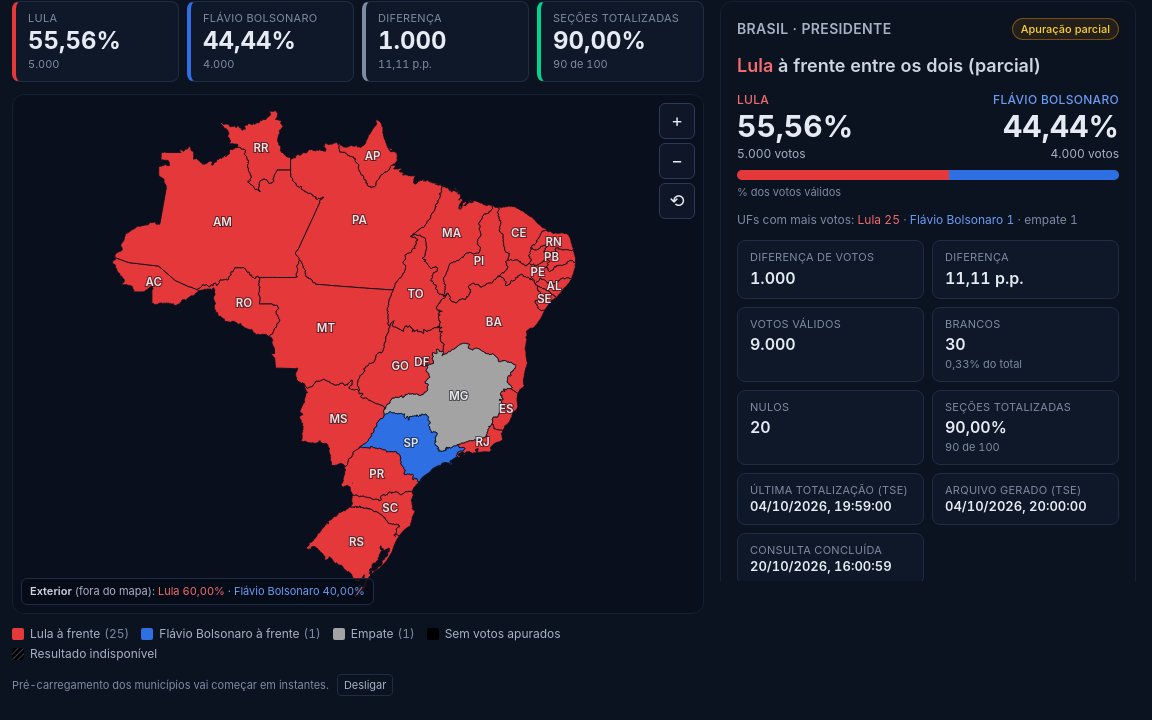
Scenario: Dashboard › desktop (1440 px) › mostra o pré-carregamento dos municípios e permite desligar
(page scrolled)
Click the button "Desligar": (365, 685) [337,674,394,696]
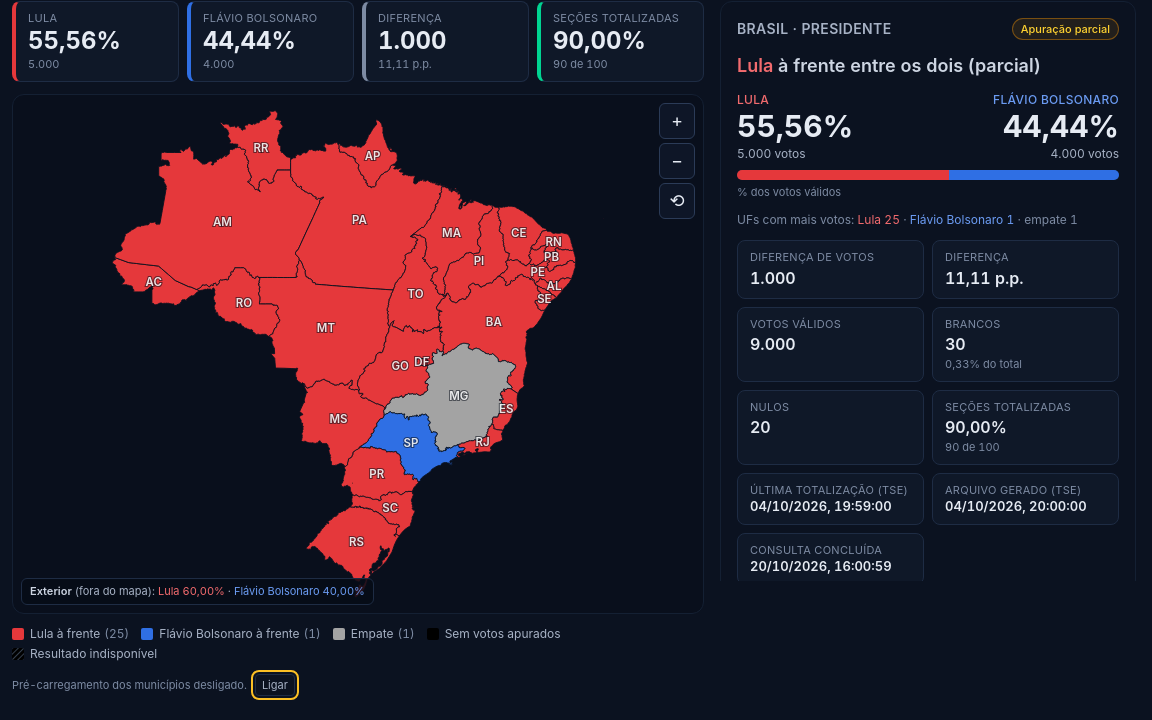
Result: the text "Pré-carregamento dos municípios desligado." is shown at [12,676,247,693]
